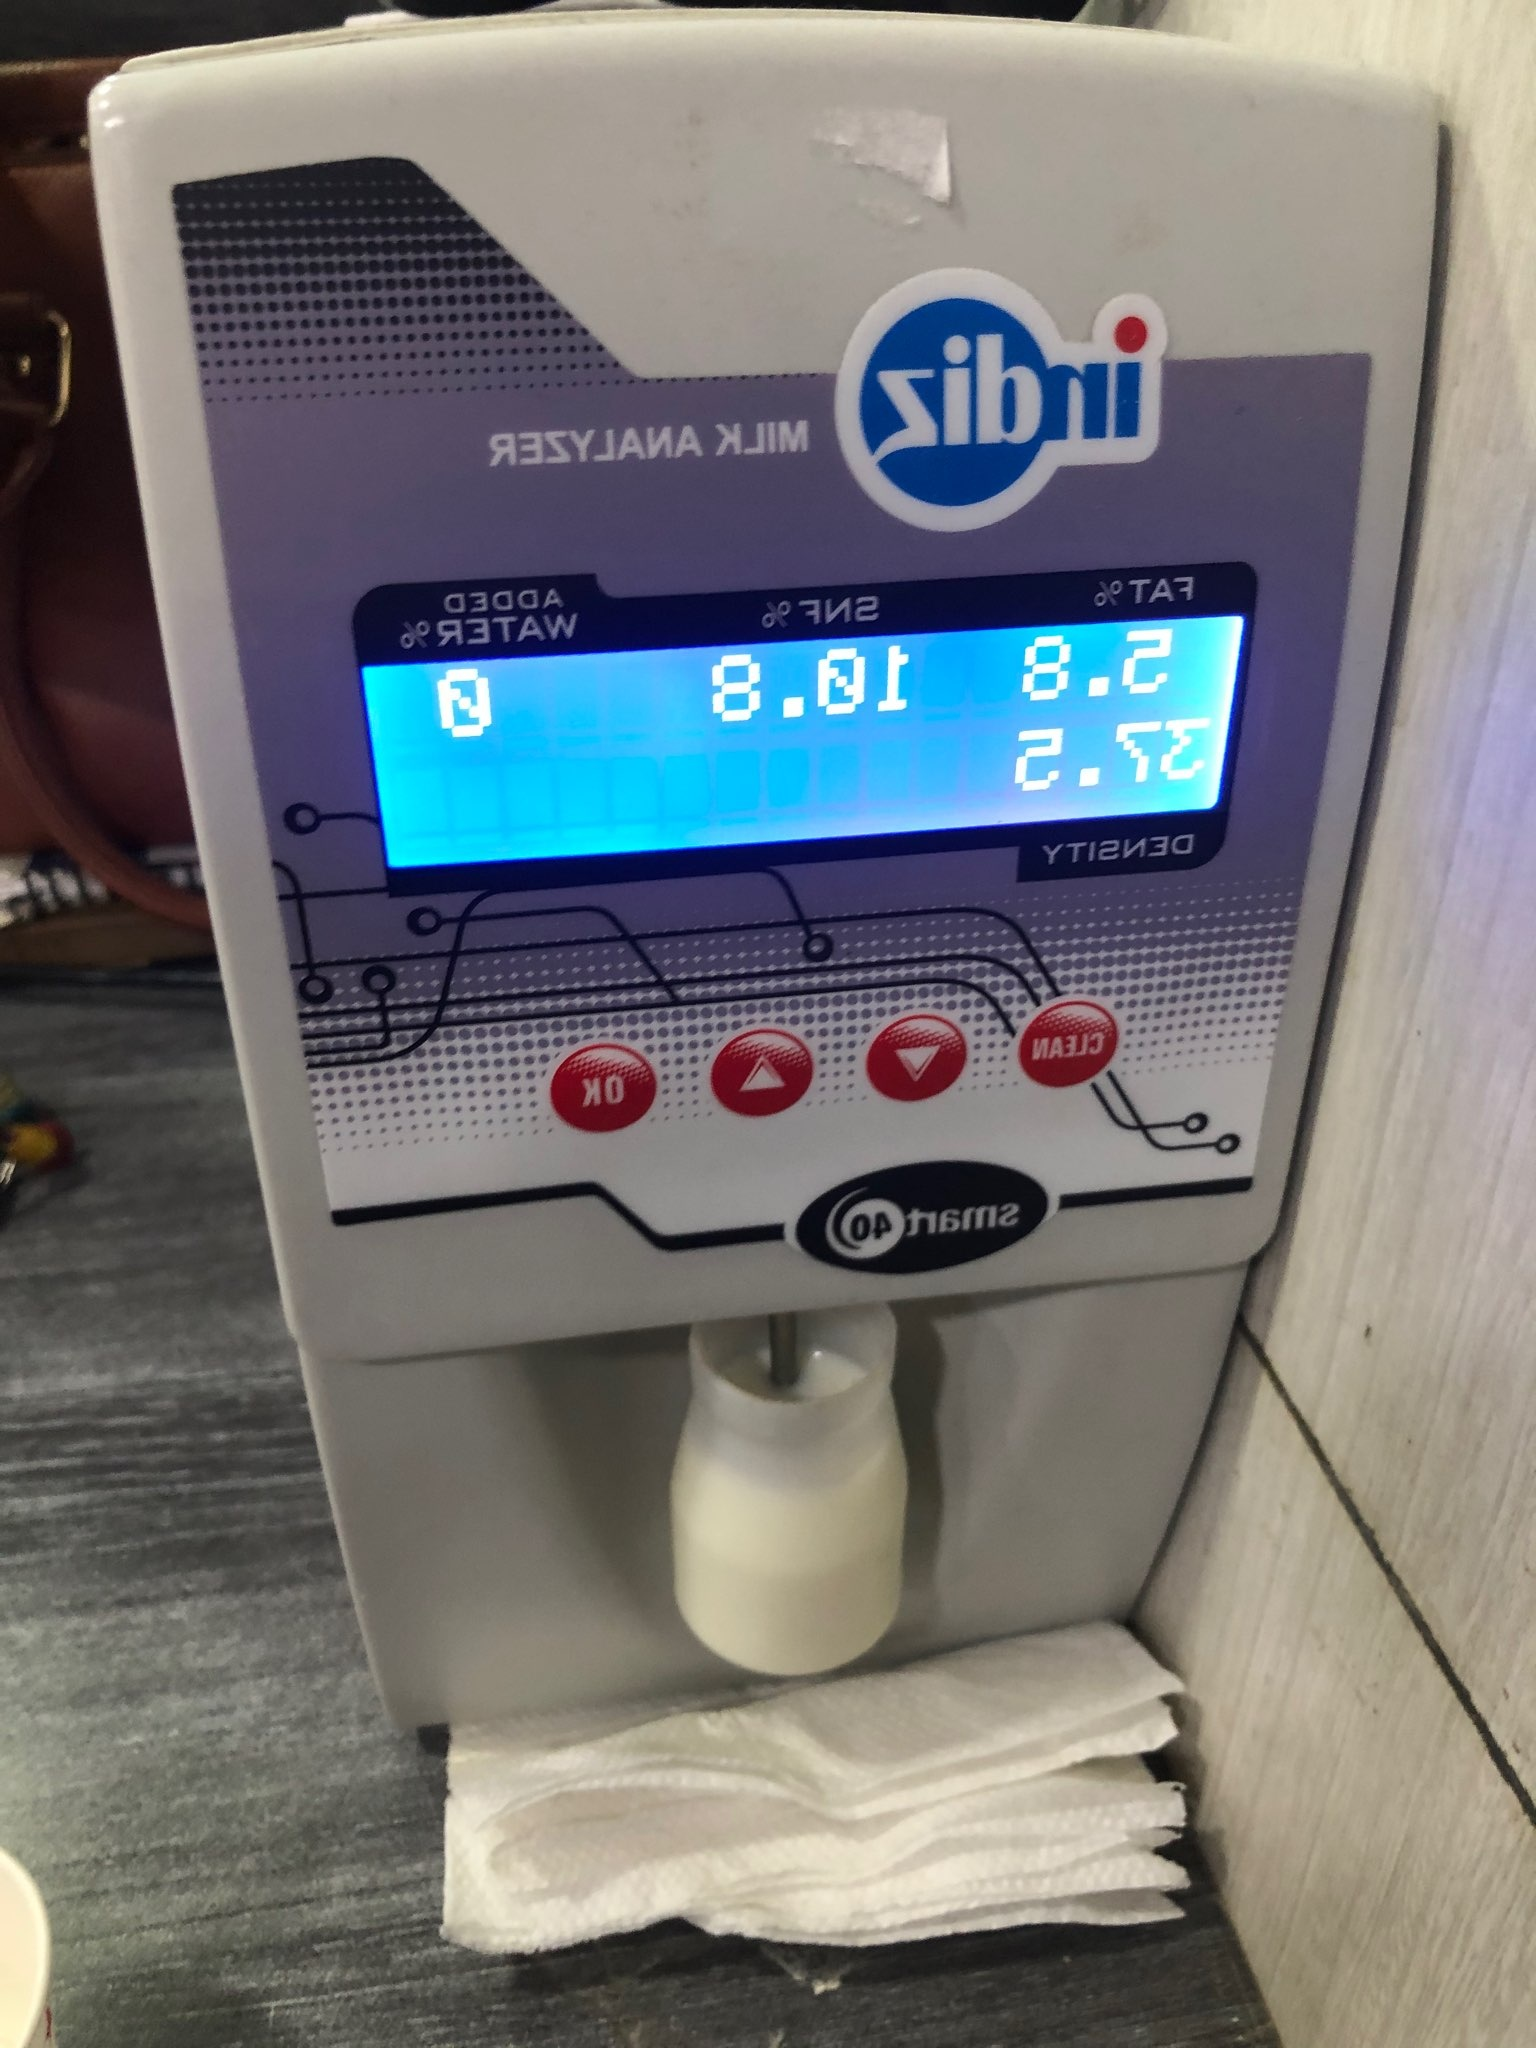lcd: (347, 535, 1263, 895)
